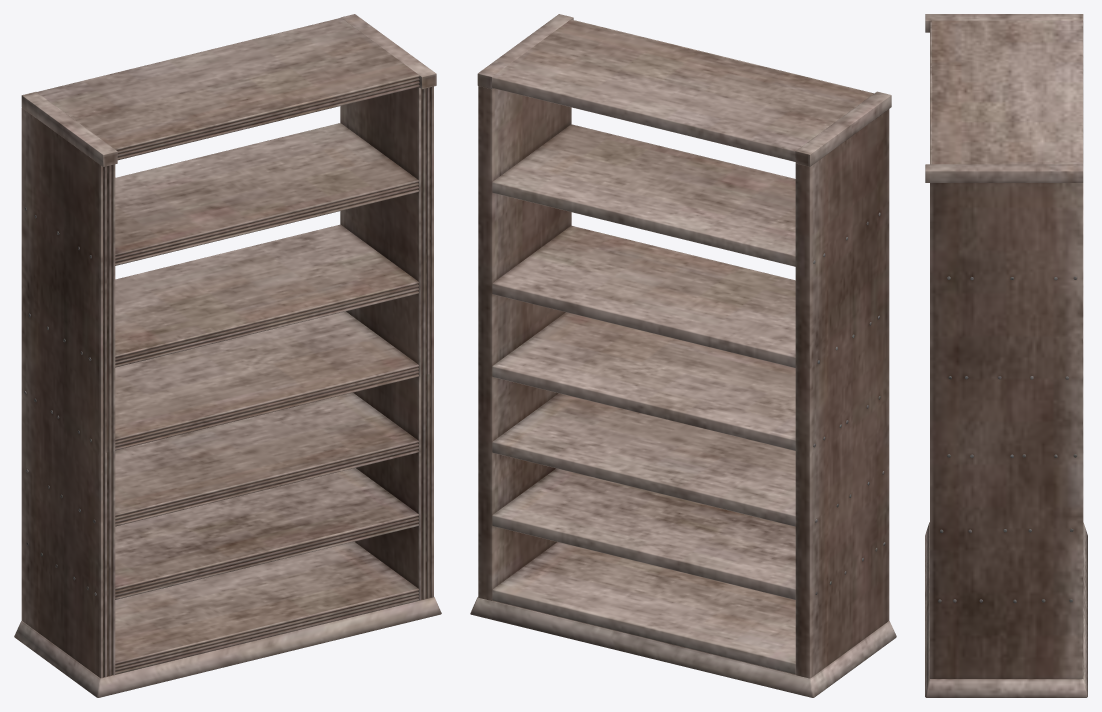
File: wooden_bookshelf_worn.glb
The picture shows the model from 3 angles, left to right: view 1: azimuth 30°, elevation 25°; view 2: azimuth 150°, elevation 25°; view 3: azimuth 270°, elevation 25°; orthographic projection. The views are drawn at different scales.
Visible parts, largest first — view 1: wooden_bookshelf_worn; view 2: wooden_bookshelf_worn; view 3: wooden_bookshelf_worn.
Boxes of the visible parts, left/top/right/bottom form: wooden_bookshelf_worn: left=14, top=14, right=441, bottom=697; wooden_bookshelf_worn: left=470, top=14, right=896, bottom=697; wooden_bookshelf_worn: left=925, top=14, right=1087, bottom=697.
Bounding box in the file's own units: 1.37 × 2.06 × 0.5813.
1 material, 1 textured.
